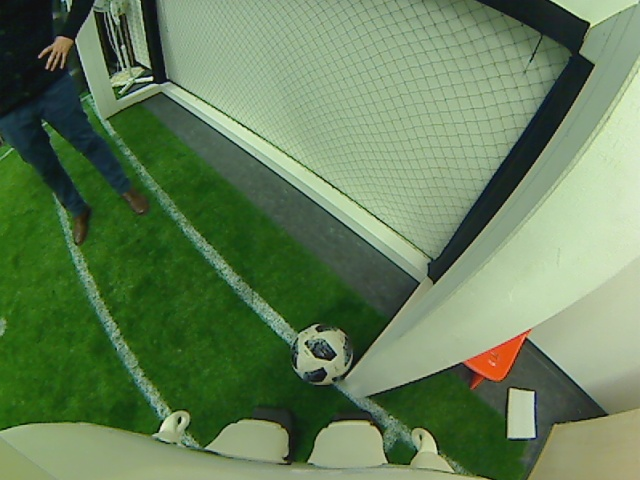ball: (290, 322, 353, 389)
